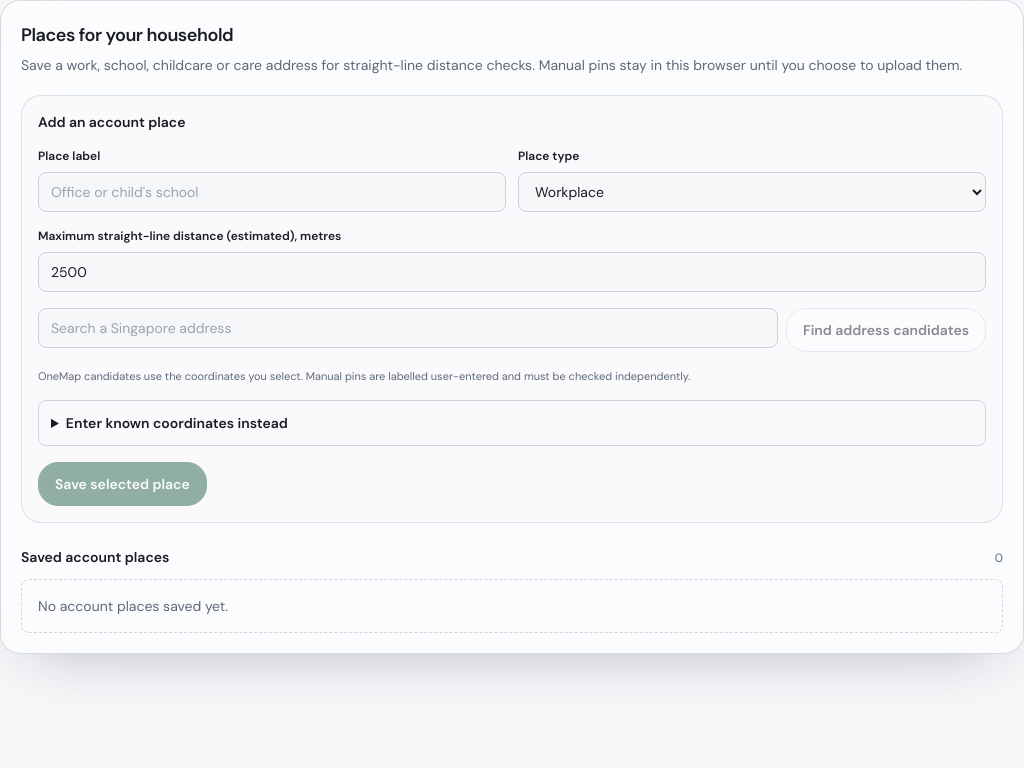
Test: stateful workspace accessibility › labels and selects an address candidate before enabling save
This screenshot has width=1024, height=768.
Type "School pickup" into the field labelled "Place label" at point(272, 192), box [38,172,506,212]
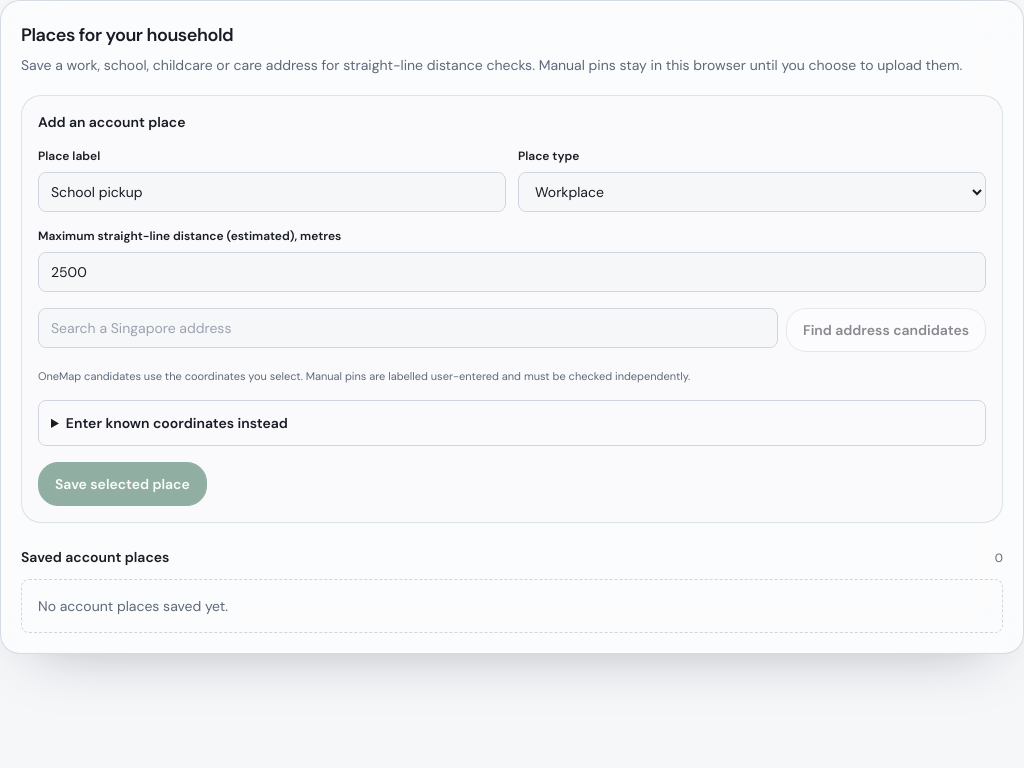
Type "Harbour Road" into the field named "Search an address" at point(408, 328), box [38,308,778,348]
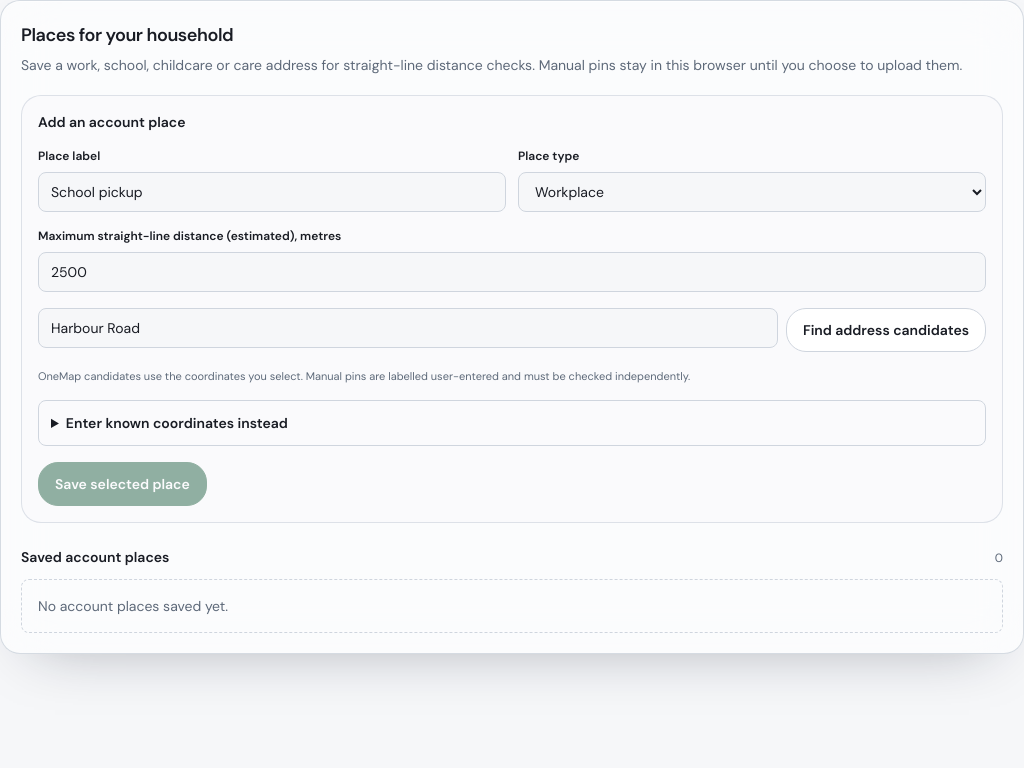
Click the button "Find address candidates" at point(886, 330), box [786,308,986,352]
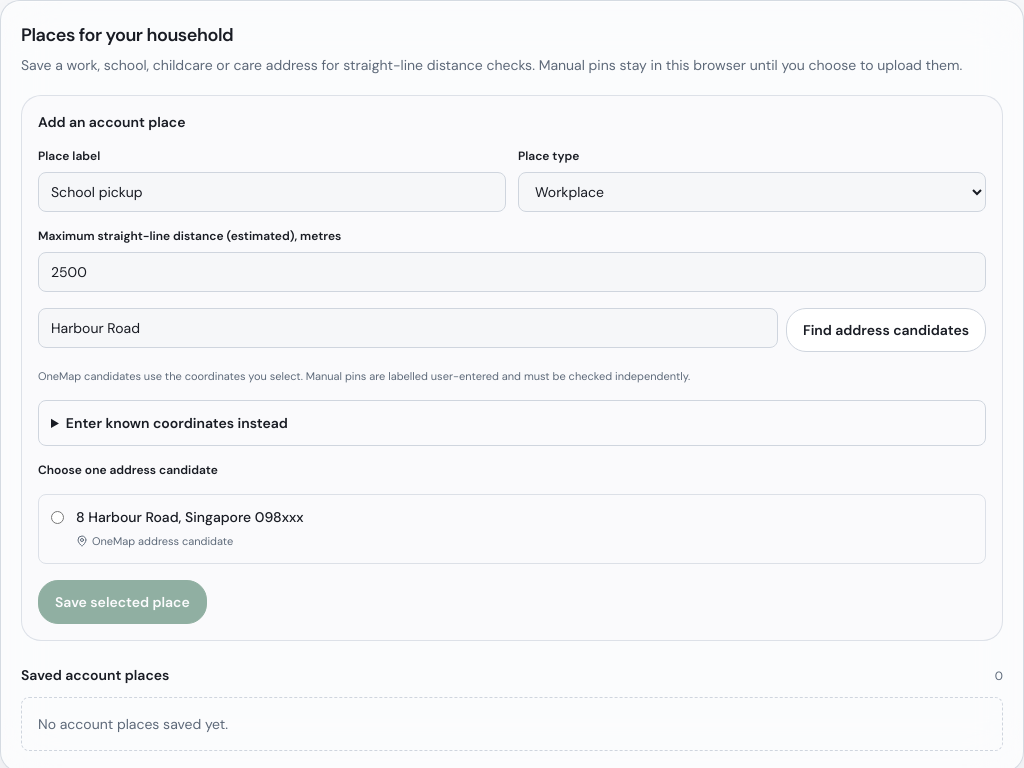
expect the button "Save selected place" is disabled: met, box [38,580,207,624]
expect the element named "OneMap address candidates" is shown: met, box [38,462,986,564]
Click the radio button labelled "8 Harbour Road, Singapore 098xxx OneMap address candidate" at point(58, 518), box [51,511,64,524]
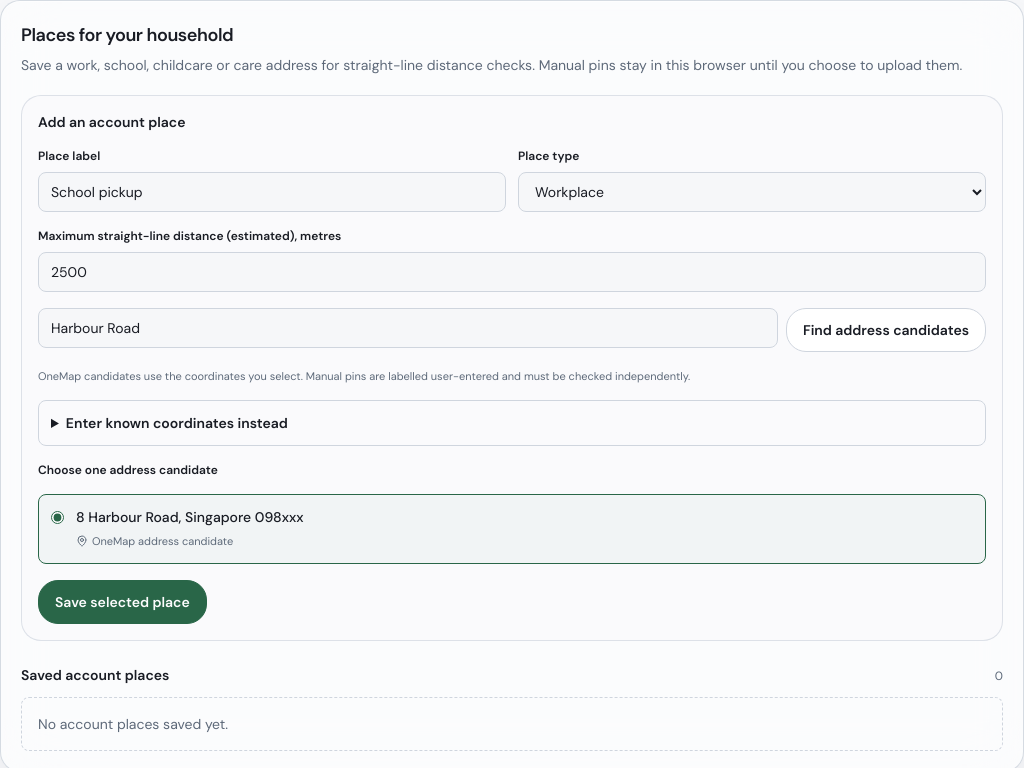
expect the button "Save selected place" is enabled: met, box [38,580,207,624]
